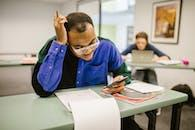good: (34, 6, 133, 110), (122, 27, 176, 67)
